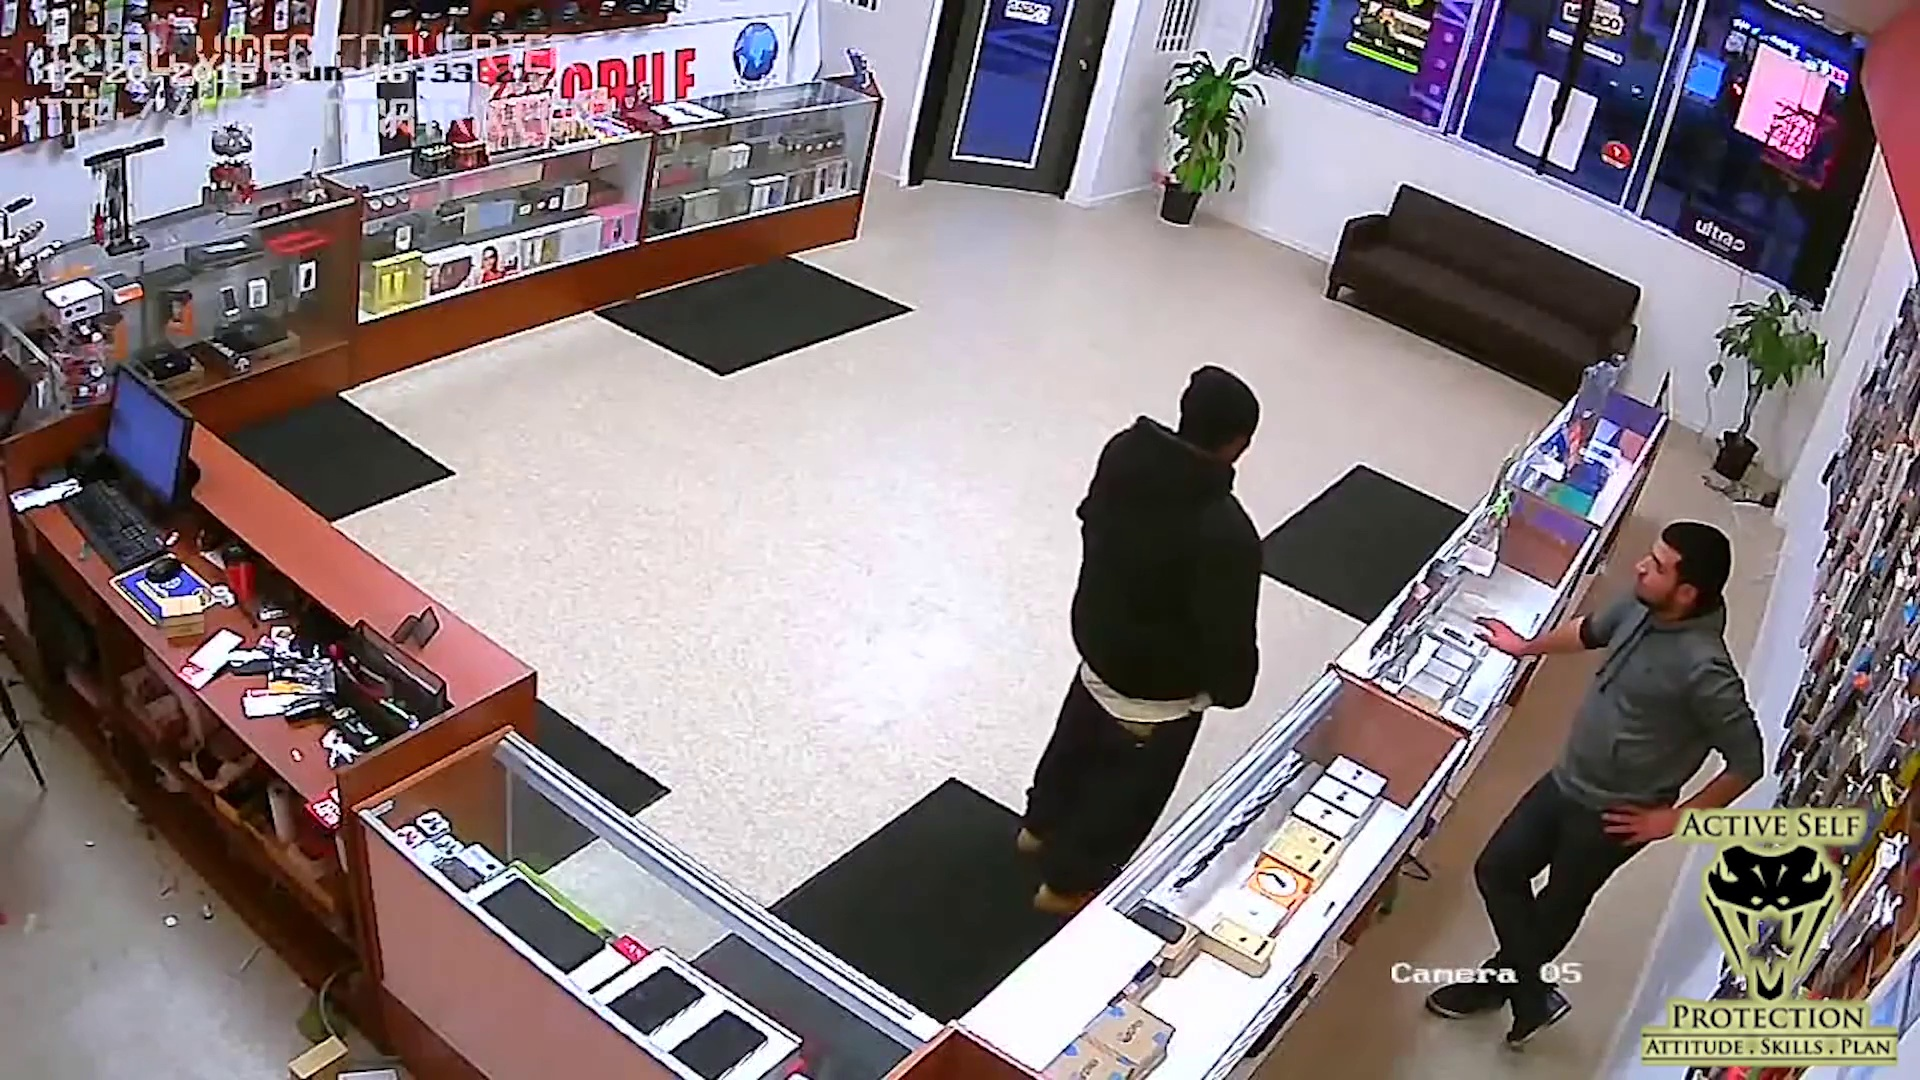normal: (1414, 516, 1768, 1062), (986, 352, 1280, 938)
